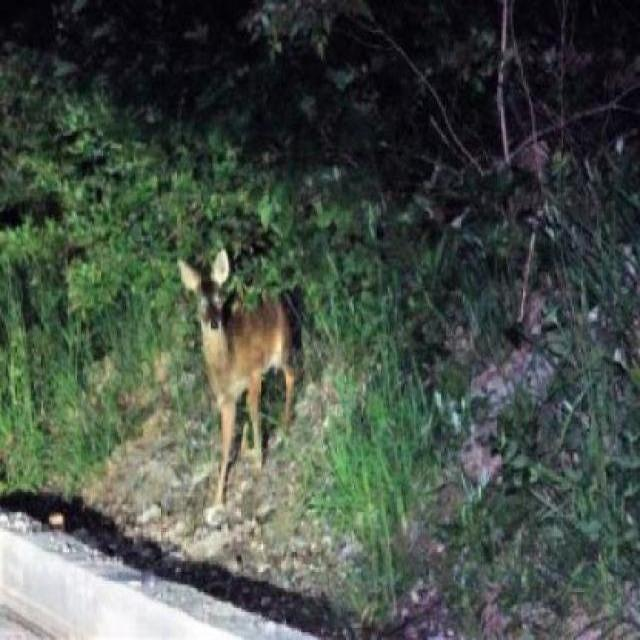deer: (165, 237, 302, 548)
